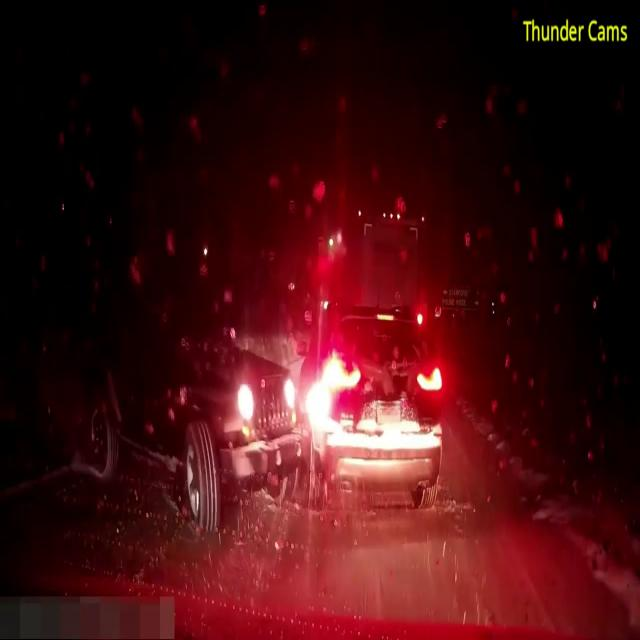accident: (152, 264, 451, 518)
